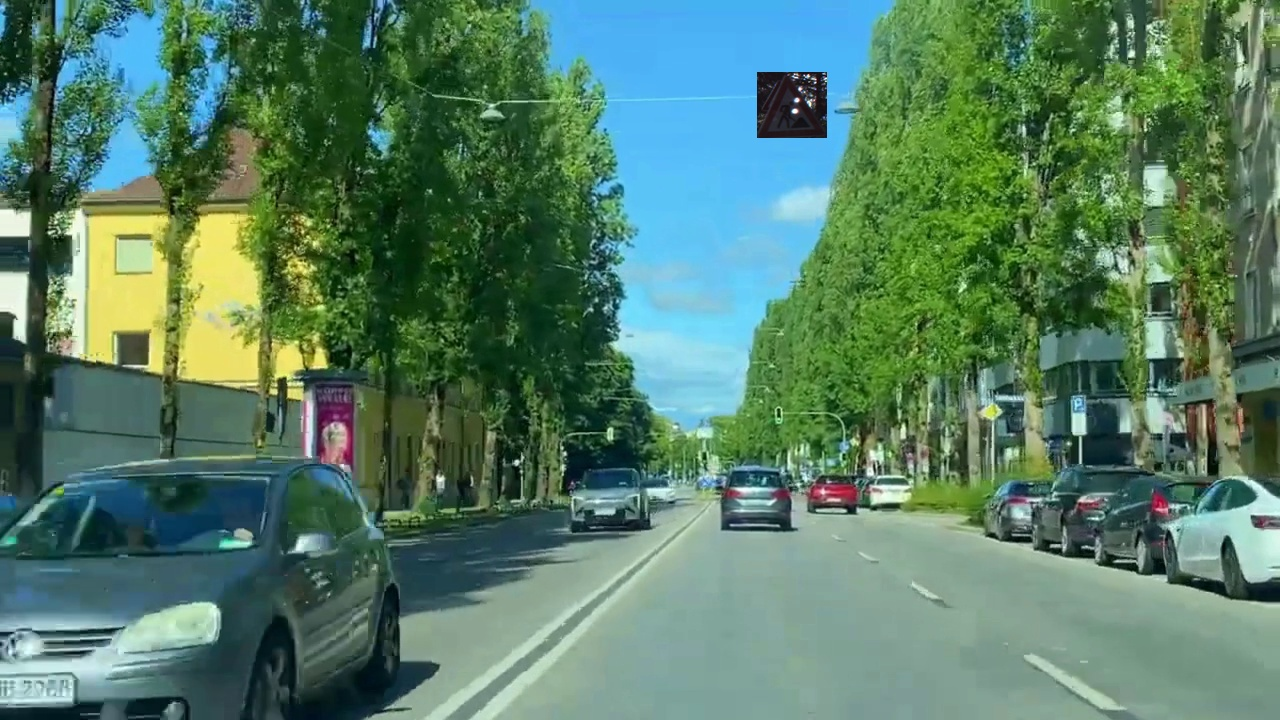Road work: (757, 72, 827, 138)
